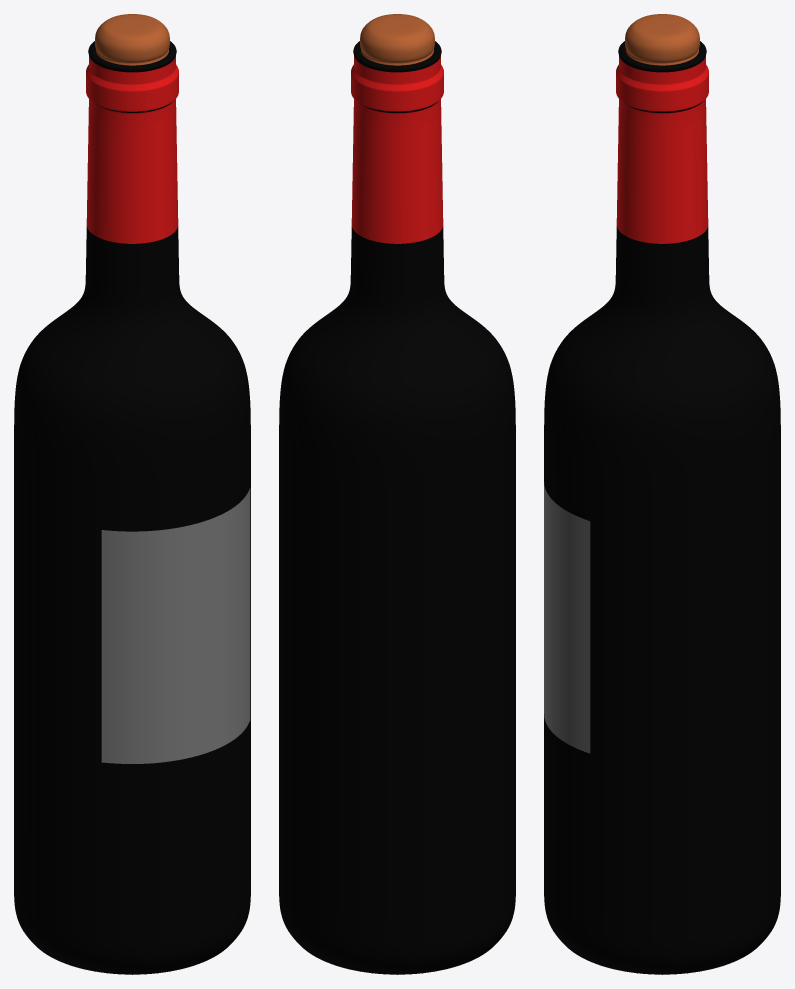
Rendered from wine_old.FBX.
3 views of the same model, side by side, from view 1: azimuth 30°, elevation 25°; view 2: azimuth 150°, elevation 25°; view 3: azimuth 270°, elevation 25° (orthographic).
Visible parts, largest first — view 1: bottle; view 2: bottle; view 3: bottle.
Boxes of the visible parts, bbox=[...] form: bottle: bbox=[14, 14, 250, 974]; bottle: bbox=[279, 14, 515, 974]; bottle: bbox=[544, 14, 780, 974].
Bounding box in the file's own units: 70.13 × 297 × 70.13.
